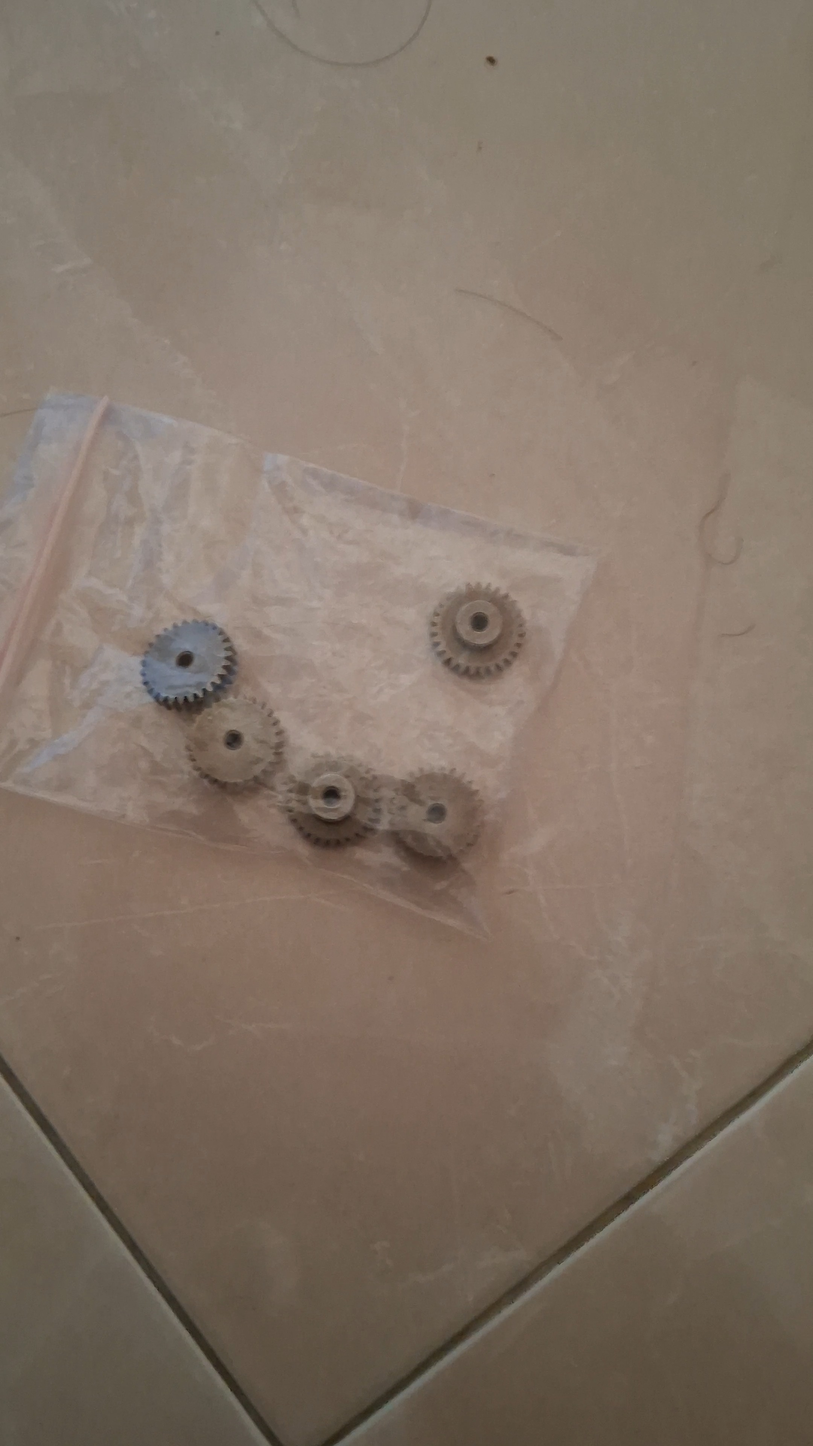spur gear: (429, 584, 525, 677), (187, 697, 284, 789), (282, 758, 381, 847), (390, 770, 483, 859), (142, 620, 236, 708)
